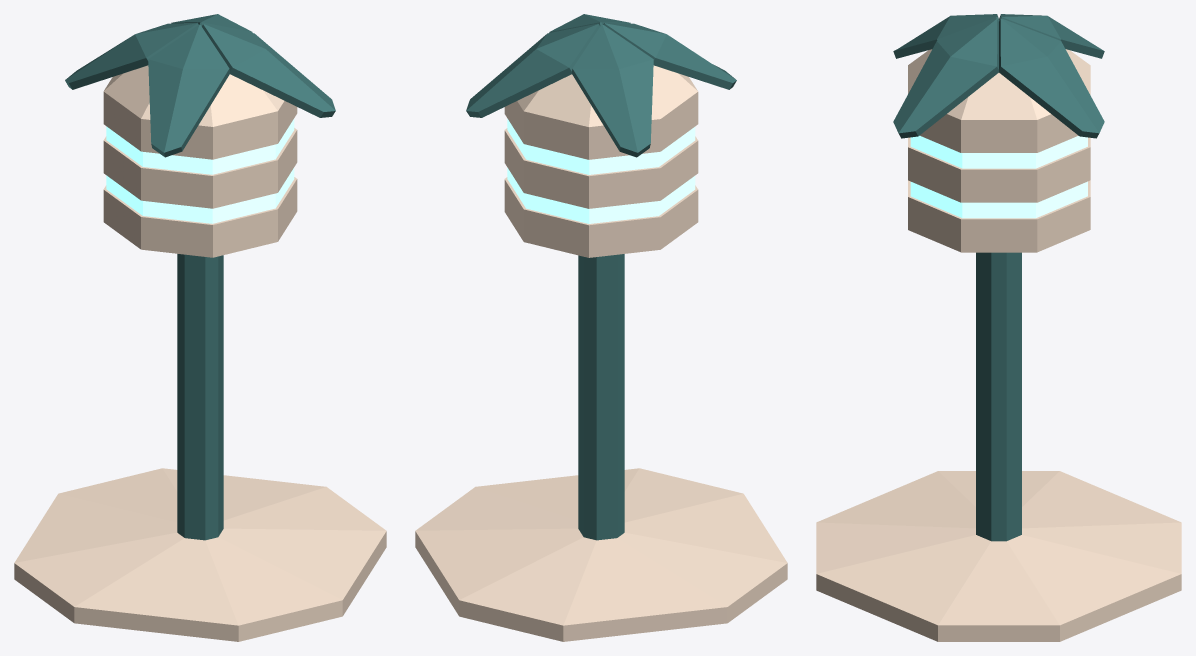
File: Lamp.fbx
3 views of the same model, side by side, from view 1: azimuth 30°, elevation 25°; view 2: azimuth 150°, elevation 25°; view 3: azimuth 270°, elevation 25° (orthographic).
Visible parts, largest first — view 1: Spotlight_LOD0; view 2: Spotlight_LOD0; view 3: Spotlight_LOD0.
Boxes of the visible parts, x1,y1,x2,y2 form: Spotlight_LOD0: (14, 14, 386, 641); Spotlight_LOD0: (415, 14, 787, 641); Spotlight_LOD0: (816, 14, 1181, 641).
Size of what is drawn, in the model's own units: 1 by 1.65 by 1.
